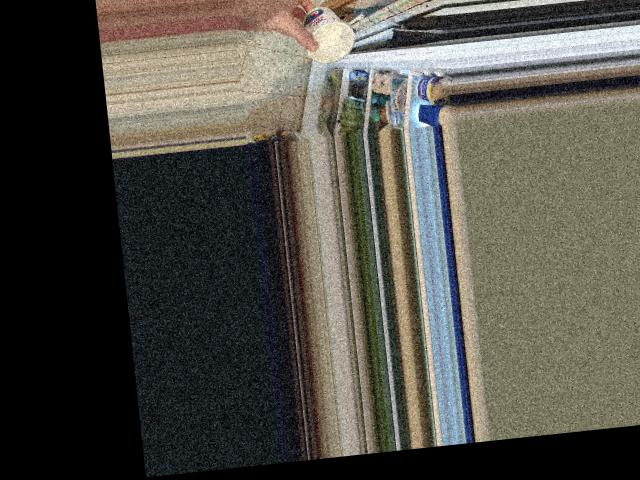cotage: (296, 0, 357, 65)
